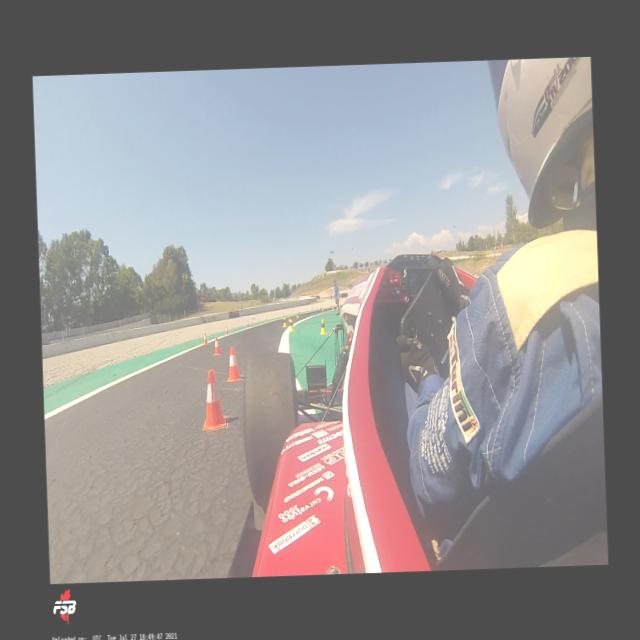orange_cone: (199, 368, 227, 431), (225, 346, 241, 382), (212, 336, 222, 356), (202, 332, 208, 346), (225, 326, 228, 334), (245, 320, 248, 328), (264, 316, 266, 322)
yellow_cone: (318, 318, 328, 335), (288, 318, 294, 332), (282, 316, 286, 328), (320, 306, 324, 312), (296, 312, 299, 318), (288, 315, 290, 321)
